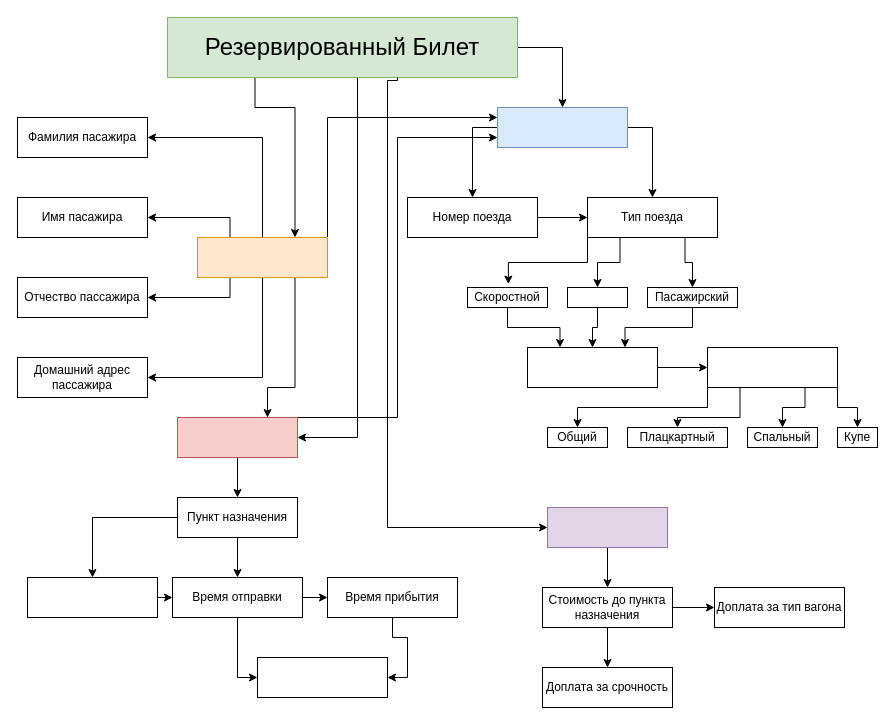
The diagram is 895 pixels wide and 725 high, and some of its shapes have lost their labels. Here are the shapes that lost their labels. From the top down, the box of each, then its label:
(496, 106, 628, 148): Транспорт и вагон
(196, 236, 328, 278): Пассажир (Персональные данные)
(566, 286, 628, 308): Скорый
(526, 346, 658, 388): Номер вагона
(706, 346, 838, 388): Тип вагона
(176, 416, 298, 458): Время и пункт
(546, 506, 668, 548): Оплата
(26, 576, 158, 618): Дата отправки
(256, 656, 388, 698): Время до пункта назначения
